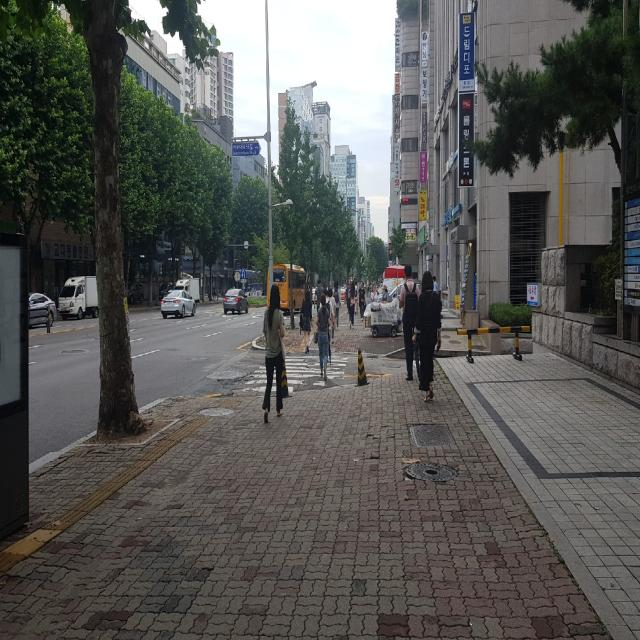횡단보도: (242, 354, 350, 394)
